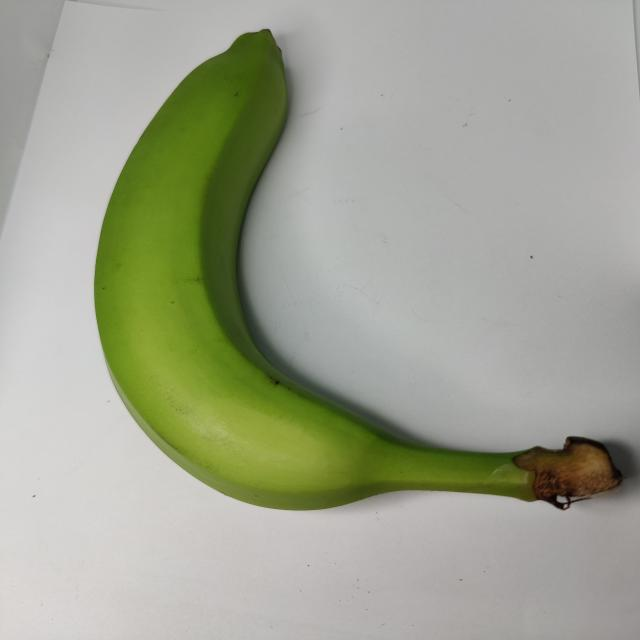raw: (57, 16, 640, 573)
